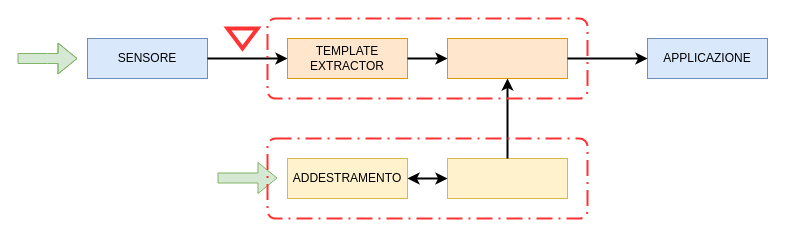
This 785x236 diagram has some shape labels left out. Here are the shapes that lost their labels. From the top down, the centre of each, then its label:
point (507, 58): MATCHER
point (507, 178): DATABASE DEI TEMPLATE
